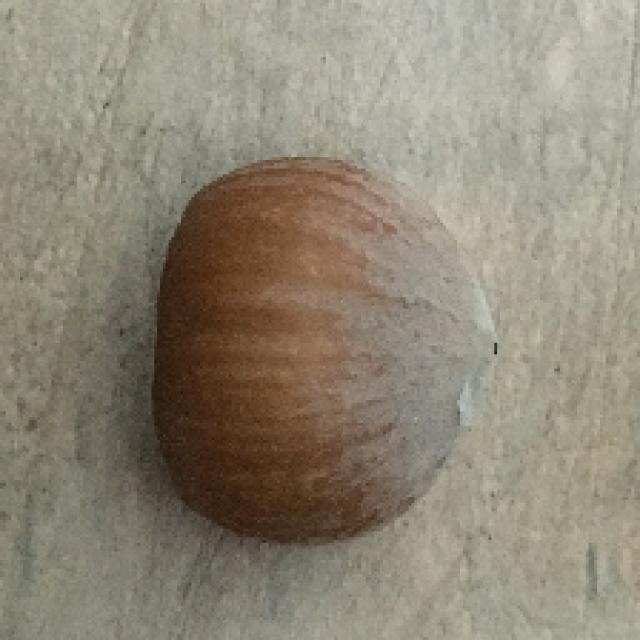qualityHazelnut: (134, 150, 502, 543)
